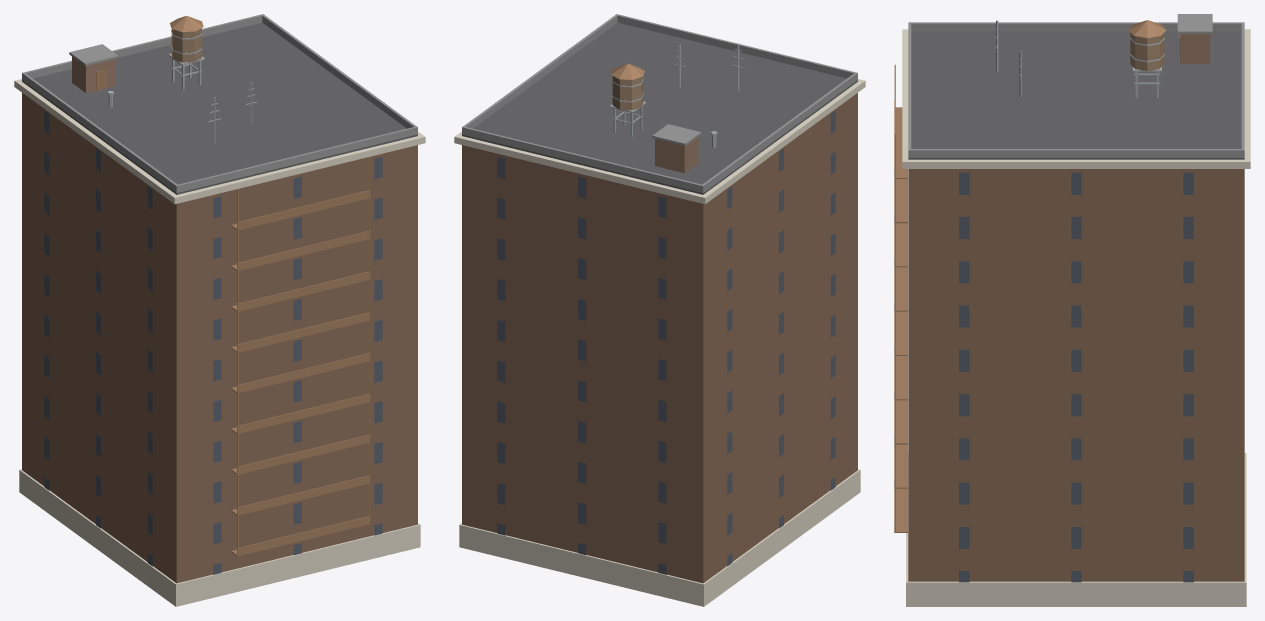
Rendered from bld_walkup_02.glb.
3 renders of one model, left to right at view 1: azimuth 30°, elevation 25°; view 2: azimuth 150°, elevation 25°; view 3: azimuth 270°, elevation 25°, orthographic. The views are drawn at different scales.
Parts seen in each view (by area): view 1: bld_walkup_02; view 2: bld_walkup_02; view 3: bld_walkup_02.
Boxes of the visible parts, x1,y1,x2,y2 form: bld_walkup_02: (14,14,425,606); bld_walkup_02: (454,14,865,606); bld_walkup_02: (894,14,1250,606).
Size of the model in its own units: 18.7 by 34.19 by 21.18.
